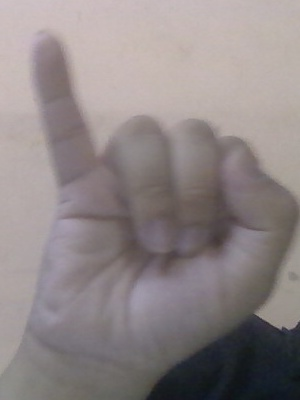I: (26, 26, 300, 300)
